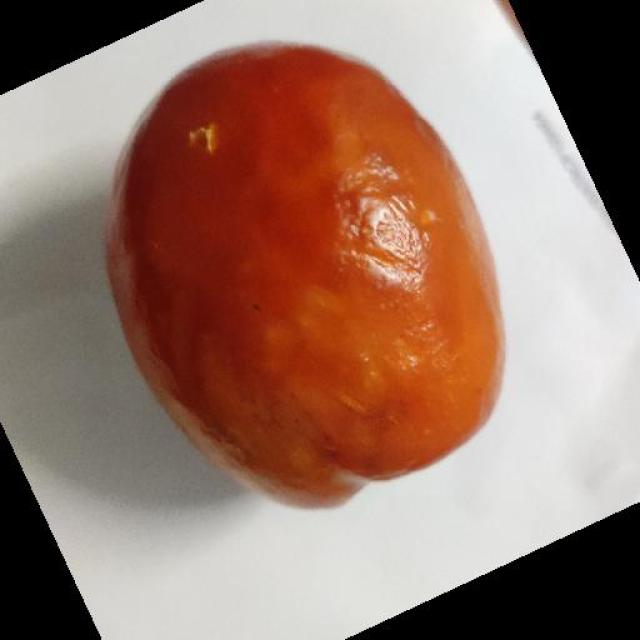Stale_tomato: (101, 67, 478, 495)
